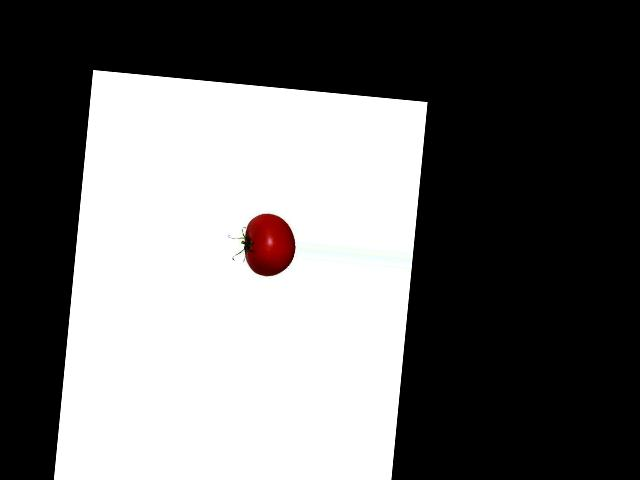tomato: (241, 212, 298, 277)
